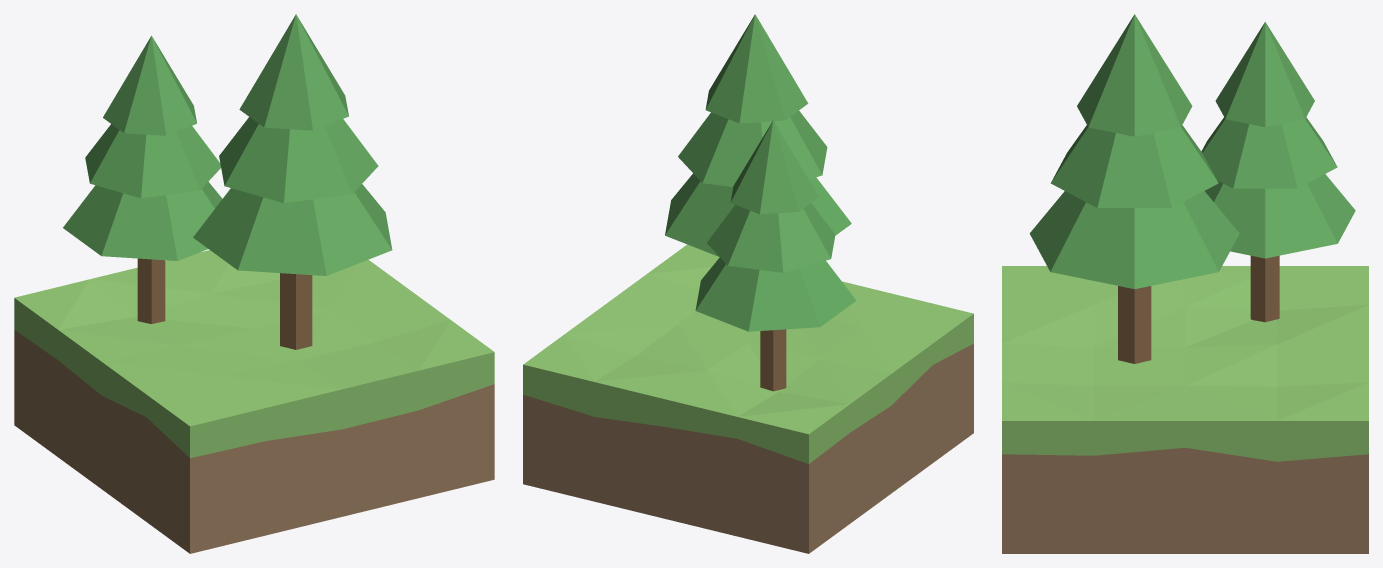
Rendered from GrassTile_Center2.fbx.
3 views of the same model, side by side, from view 1: azimuth 30°, elevation 25°; view 2: azimuth 150°, elevation 25°; view 3: azimuth 270°, elevation 25° (orthographic). The views are drawn at different scales.
Visible parts, largest first — view 1: GrassTile_Center2; view 2: GrassTile_Center2; view 3: GrassTile_Center2.
Boxes of the visible parts, box(x1,y1,x2,y2) form: GrassTile_Center2: box(14, 14, 494, 553); GrassTile_Center2: box(523, 14, 973, 553); GrassTile_Center2: box(1002, 14, 1368, 553).
Bounding box in the file's own units: 1 × 1.42 × 1.
